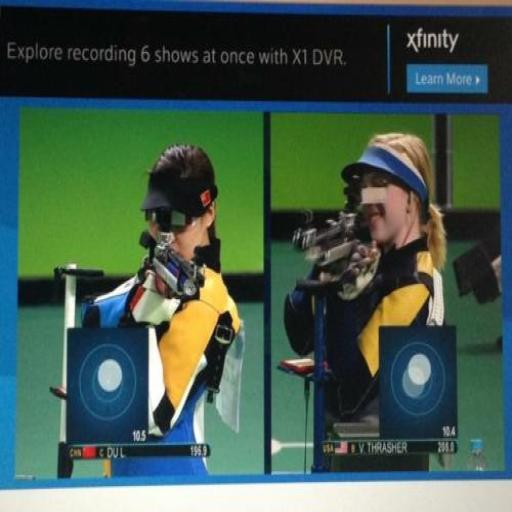shooting: (51, 140, 246, 478), (282, 139, 467, 458)
